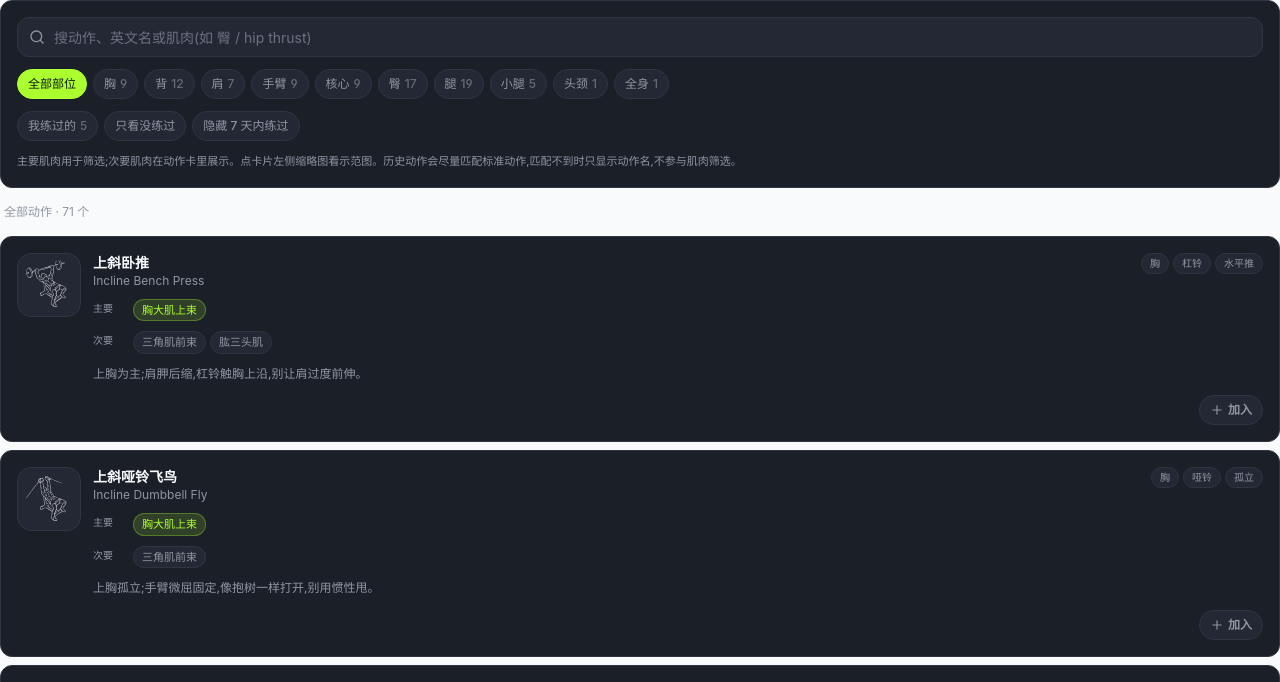
Test case: FitExerciseLibrary › 搜索 hip thrust 命中臀推,搜不到时给空态
Type "hip thrust" into the field named "搜索动作或肌肉" at (640, 37), box [17,17,1263,57]
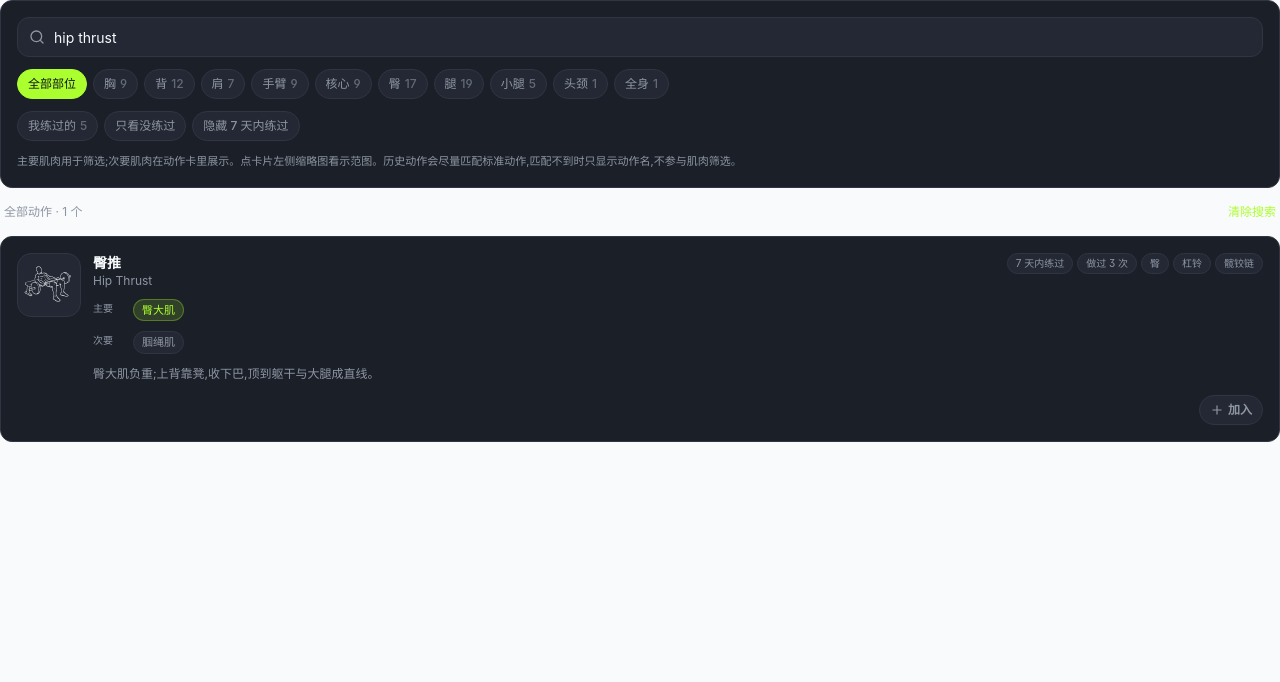
Expected: the heading "臀推" is shown, [93,254,121,271]
Replace the text in the field named "搜索动作或肌肉" with "不存在的动作xyz" at (640, 37), box [17,17,1263,57]
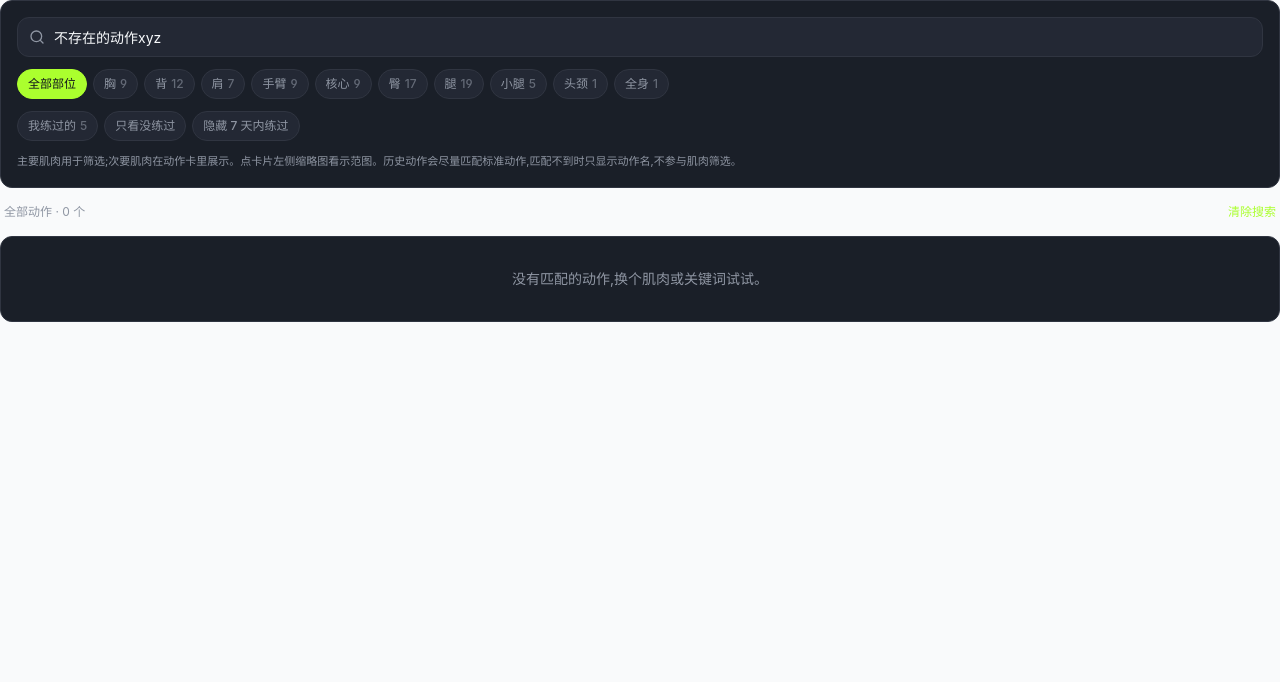
Expected: the text "没有匹配的动作,换个肌肉或关键词试试。" is shown, [512,270,768,287]
